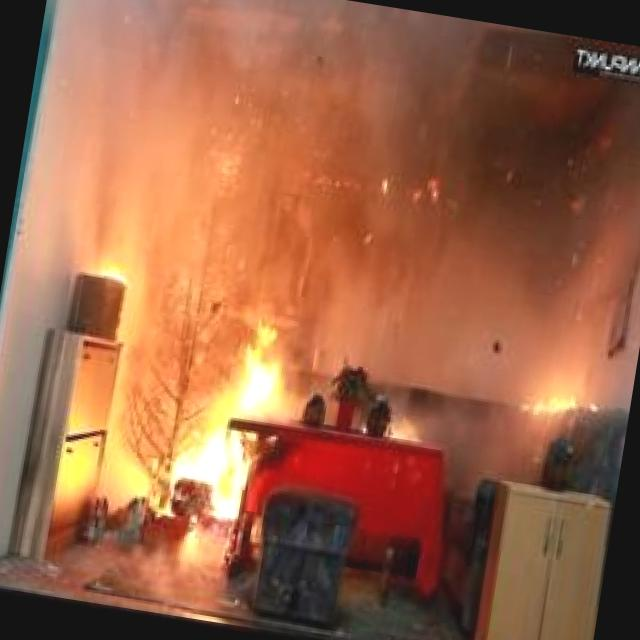fire: (150, 302, 326, 534)
